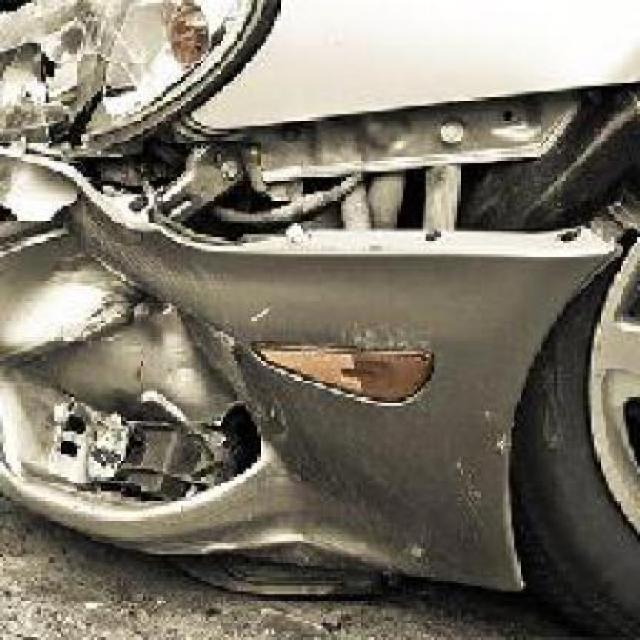damaged-front-bumper: (0, 136, 580, 593)
damaged-head-light: (0, 0, 278, 134)
